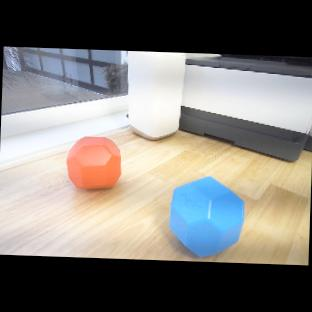V5_BLUE: (167, 174, 246, 259)
V5_RED: (65, 135, 123, 192)
